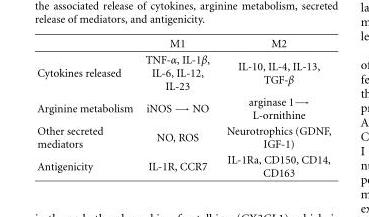table: (36, 37, 330, 178)
table column: (217, 37, 330, 178), (36, 37, 138, 178), (138, 37, 217, 178)
table column header: (36, 37, 330, 51)
table row: (36, 51, 330, 93), (36, 93, 330, 122), (36, 122, 330, 151), (36, 151, 330, 178), (36, 37, 330, 51)
